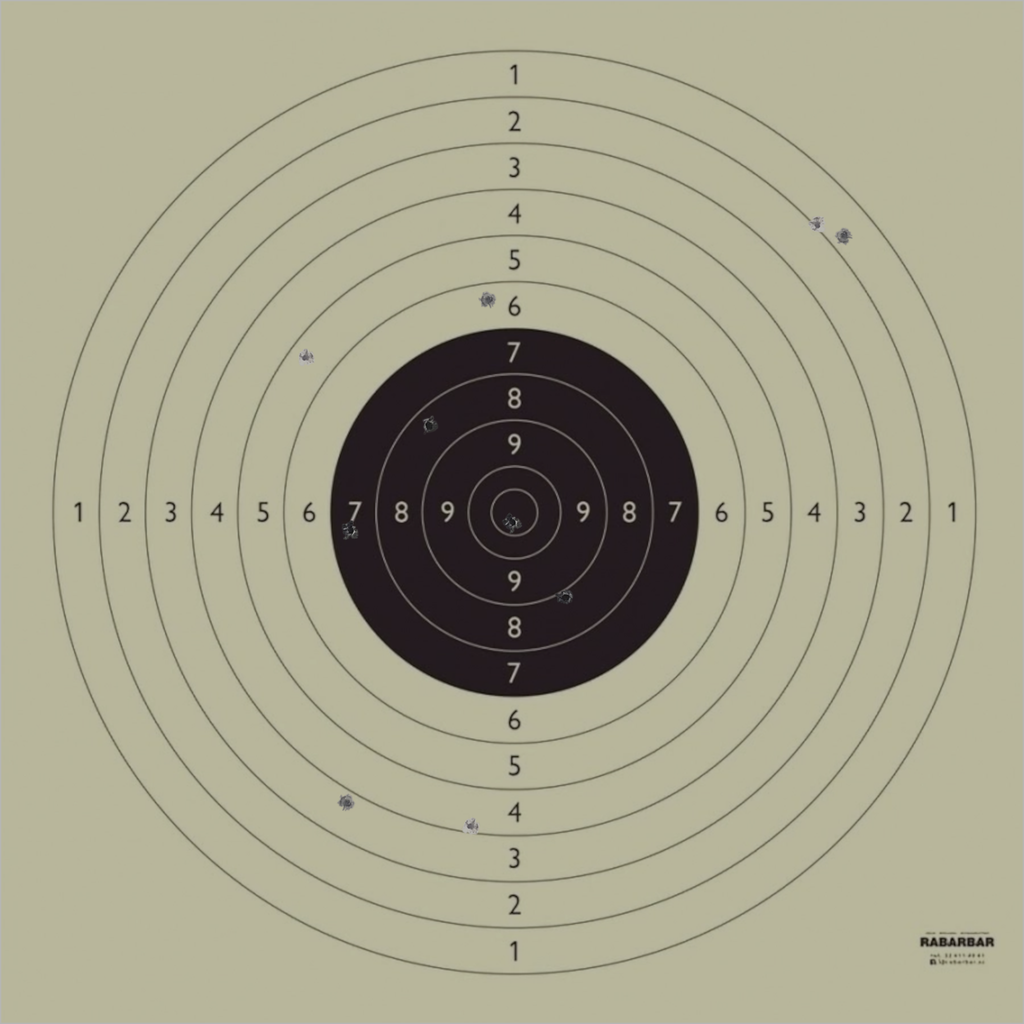0 punktow: (384, 0, 403, 16)
1 punkt: (835, 226, 853, 245)
10 punktow: (503, 513, 521, 531)
2 punkty: (808, 215, 826, 234)
3 punkty: (338, 794, 356, 812)
4 punkty: (462, 817, 480, 835)
5 punktow: (296, 348, 315, 367)
6 punktow: (479, 291, 498, 309)
7 punktow: (341, 521, 360, 539)
8 punktow: (420, 416, 438, 435)
9 punktow: (556, 588, 575, 607)
